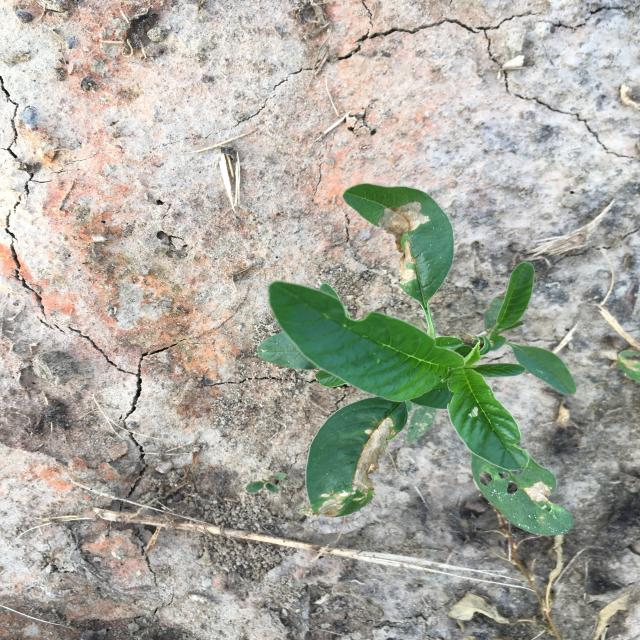Waterhemp: (256, 183, 578, 537), (245, 472, 287, 493)
